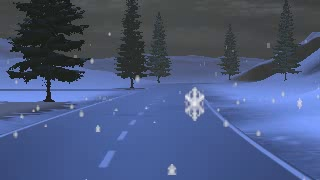Lane: (0, 82, 309, 179)
